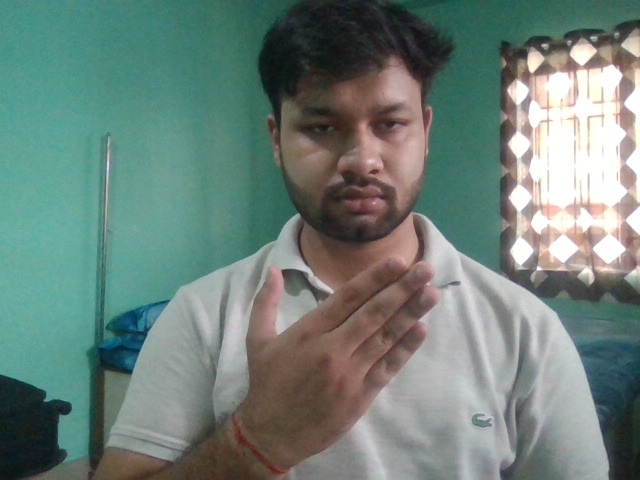Please: (227, 252, 442, 473)
